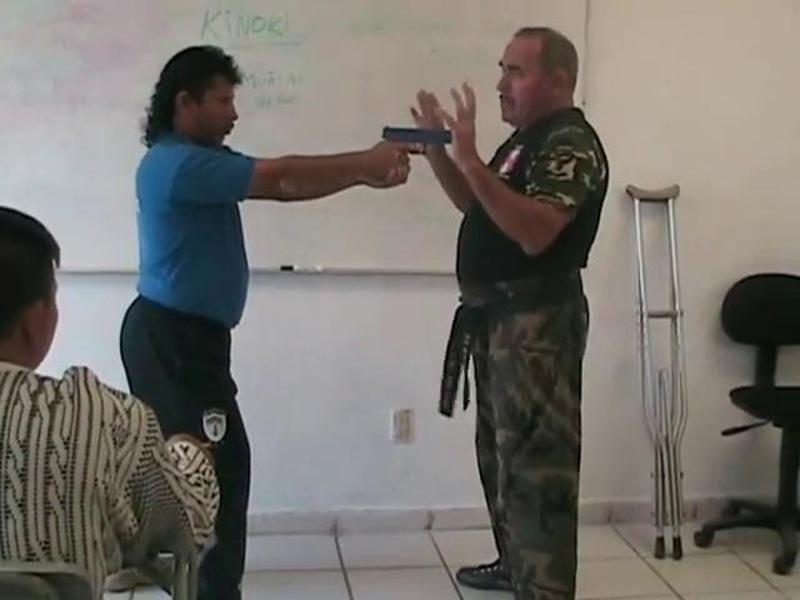Pistola: (366, 114, 458, 182)
